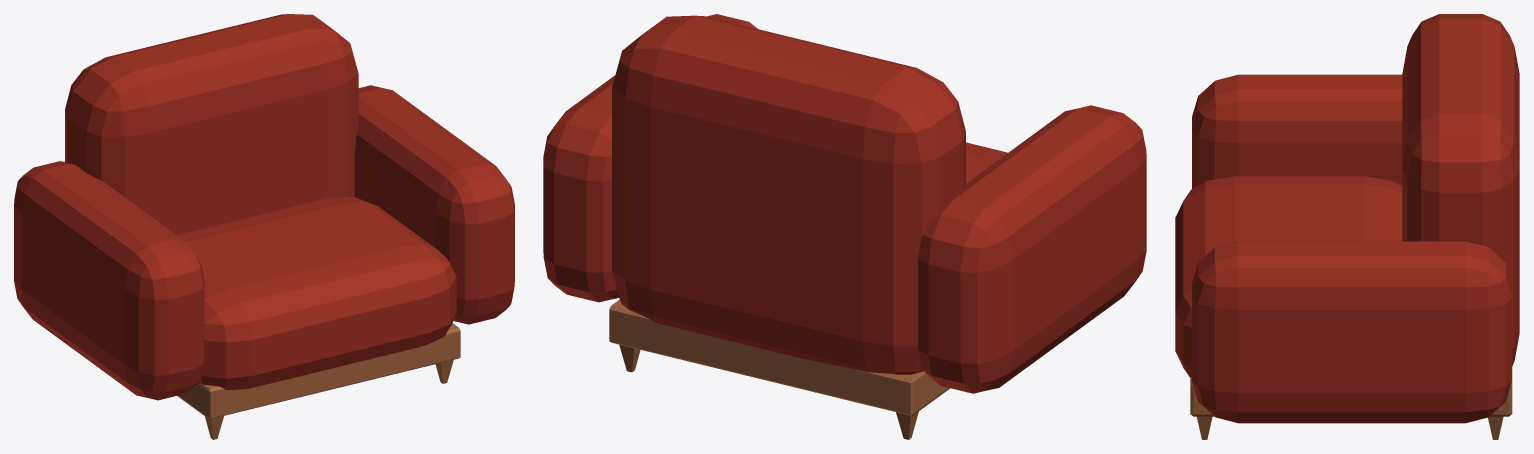
Rendered from Sofa B.glb.
3 renders of one model, left to right at view 1: azimuth 30°, elevation 25°; view 2: azimuth 150°, elevation 25°; view 3: azimuth 270°, elevation 25°, orthographic. The views are drawn at different scales.
Visible parts, largest first — view 1: Sofa B; view 2: Sofa B; view 3: Sofa B.
Part boxes in pixels (x1,y1,x2,y2): Sofa B: (14, 14, 514, 439); Sofa B: (543, 14, 1146, 439); Sofa B: (1175, 14, 1519, 439).
Size of the model in its own units: 616 by 435 by 437.
